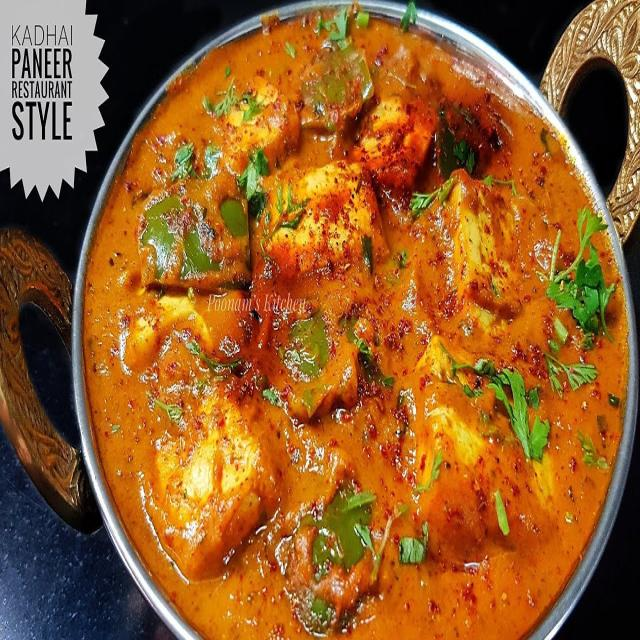panneer: (186, 93, 551, 580)
